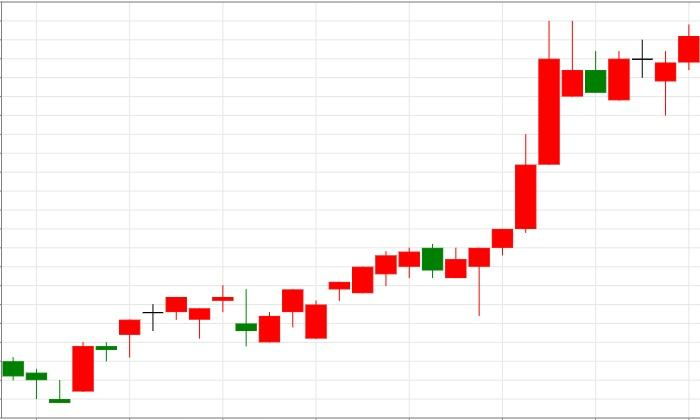shooting_star_fall: (445, 20, 583, 316)
